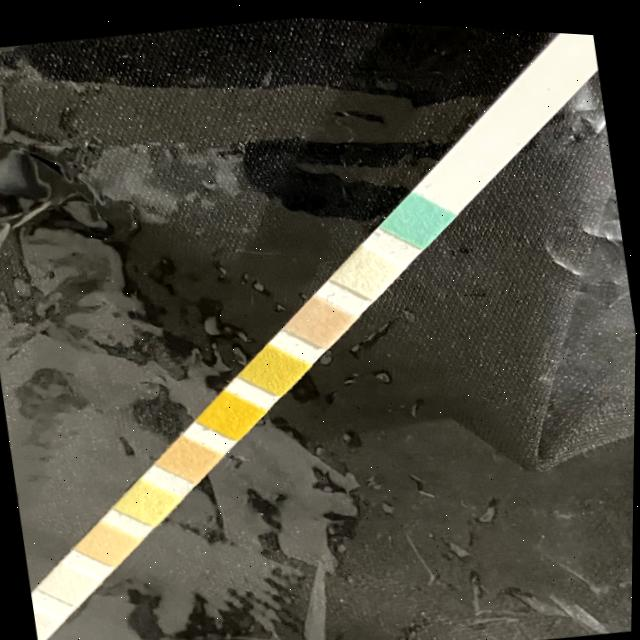Bilirubin: (344, 250, 390, 284)
Blood: (207, 397, 251, 427)
Glucose: (393, 196, 439, 233)
Ketone: (297, 301, 342, 335)
Leukocytes: (35, 612, 49, 632)
Nitrite: (50, 570, 88, 597)
Protein: (127, 486, 168, 516)
SpGravity: (251, 350, 296, 382)
Urobilinogen: (89, 527, 129, 557)
pH: (170, 442, 210, 473)
